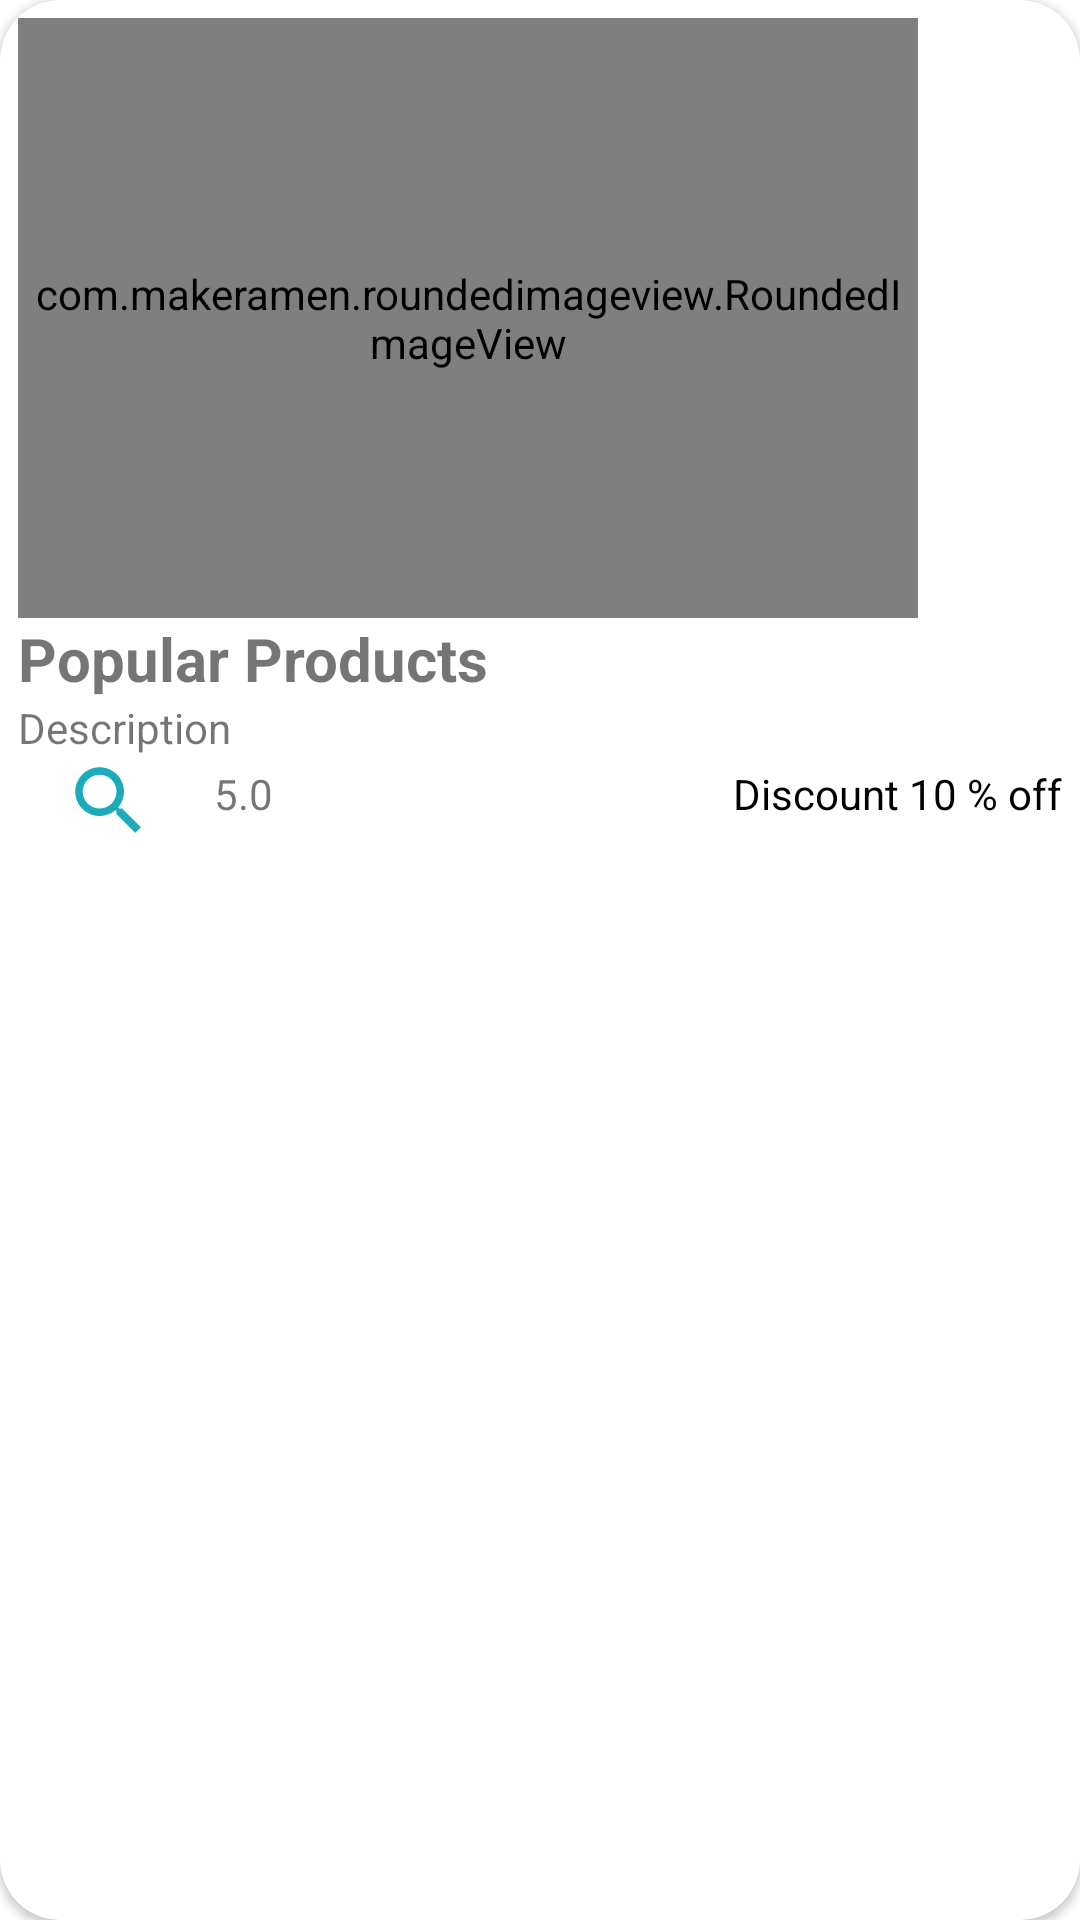

Where to tap for icons on this 1080 x 1920 app screen, as (x=x, y=y):
search: (x=108, y=800)
